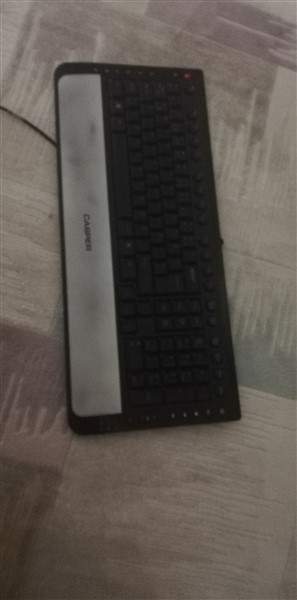klavye: (45, 54, 249, 435)
